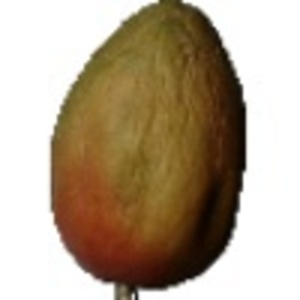mamão: (21, 2, 261, 286)
